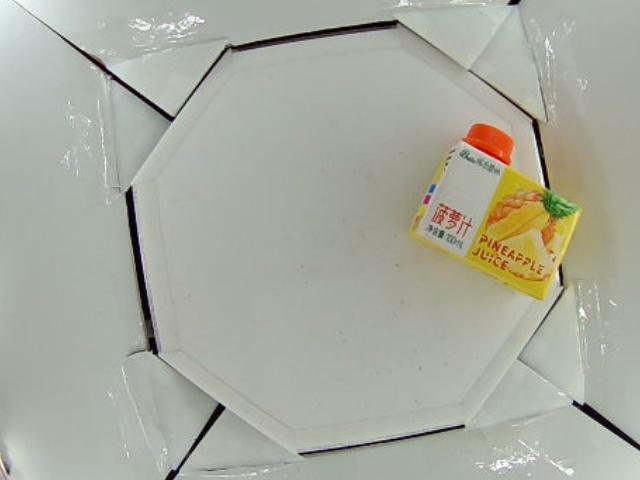Bottle: (413, 124, 585, 302)
